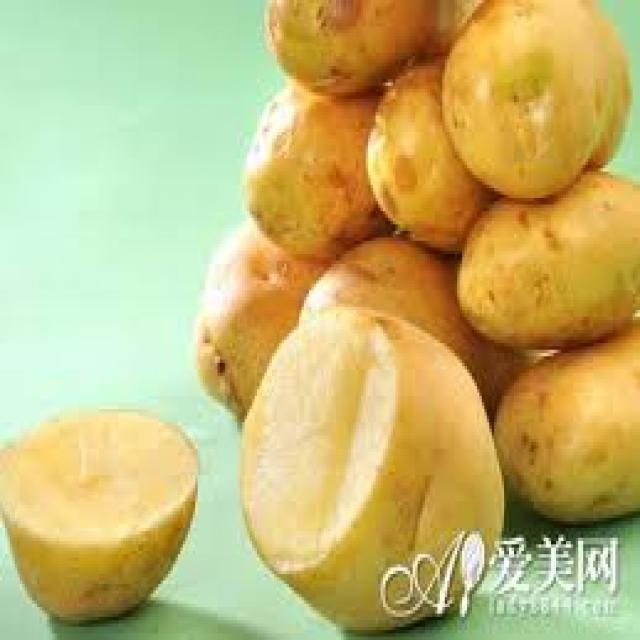organic waste: (234, 304, 502, 624), (294, 231, 539, 402), (0, 406, 195, 620), (440, 0, 628, 198), (452, 165, 638, 340), (492, 313, 638, 518), (193, 218, 343, 416), (364, 56, 489, 248), (247, 82, 383, 258), (262, 0, 447, 96)
